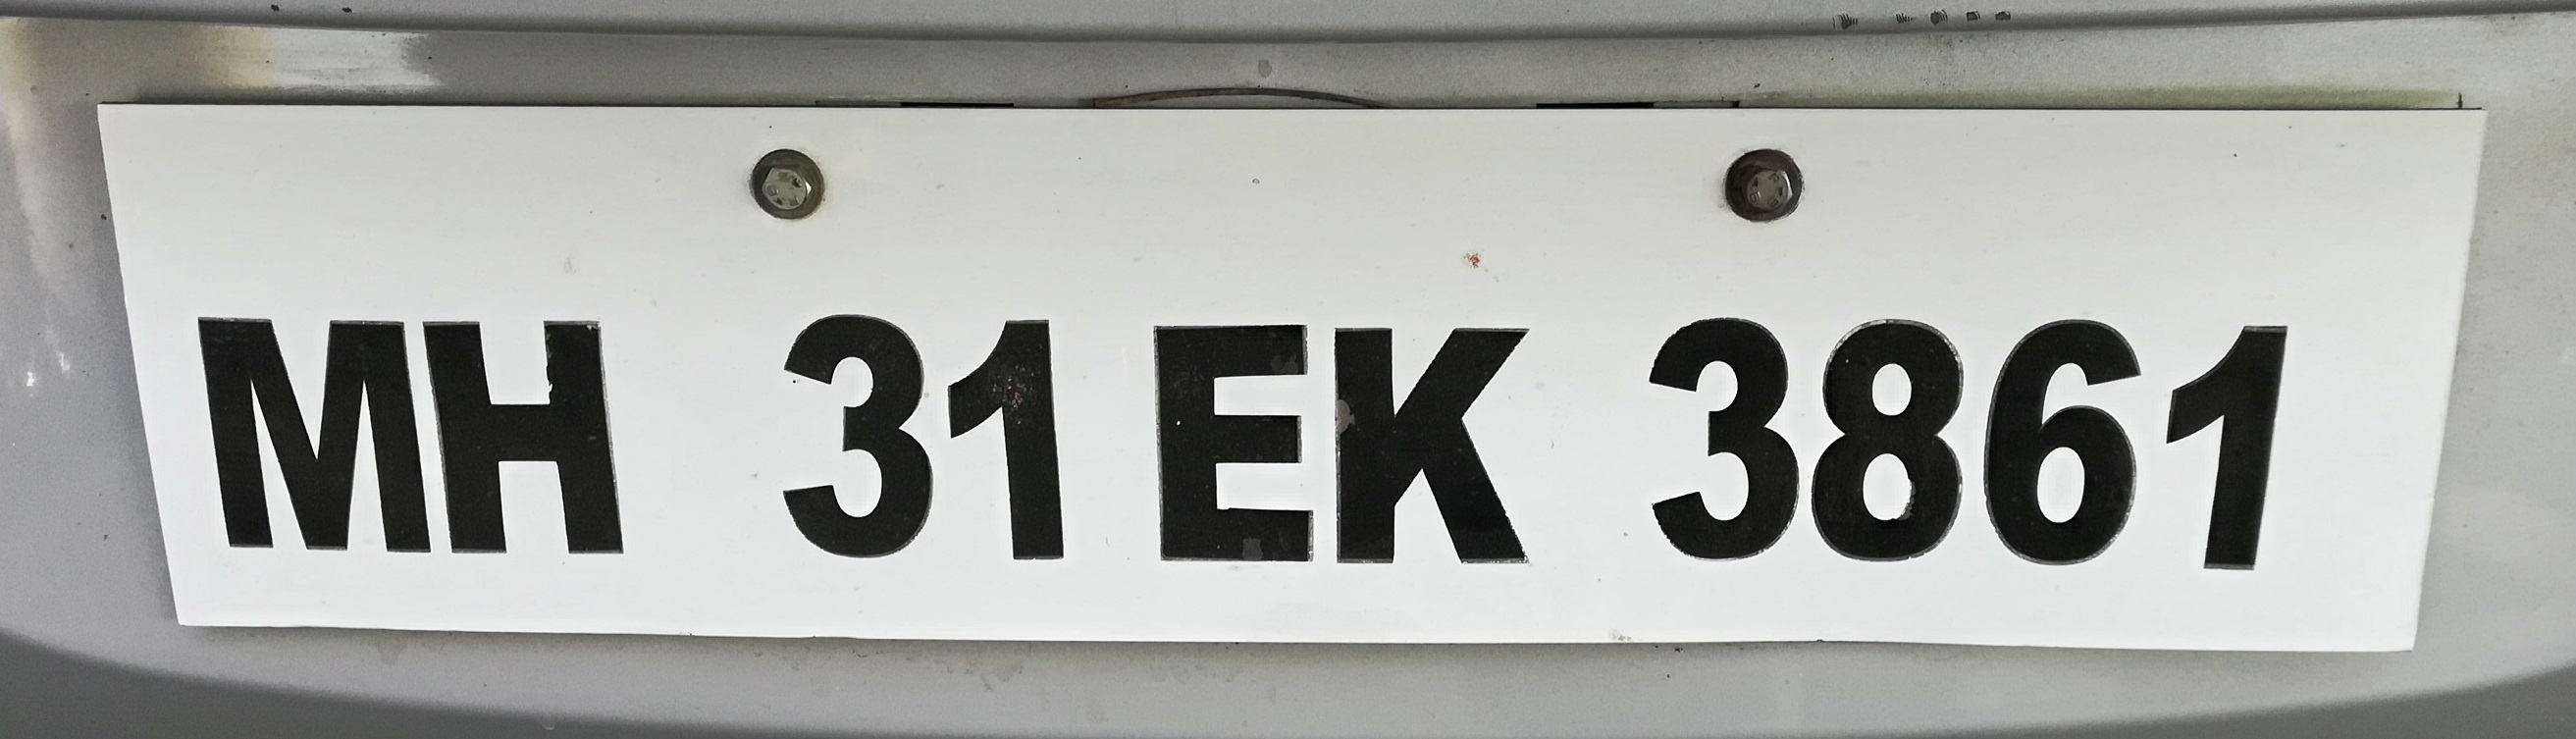numberplate: (88, 89, 2487, 657)
